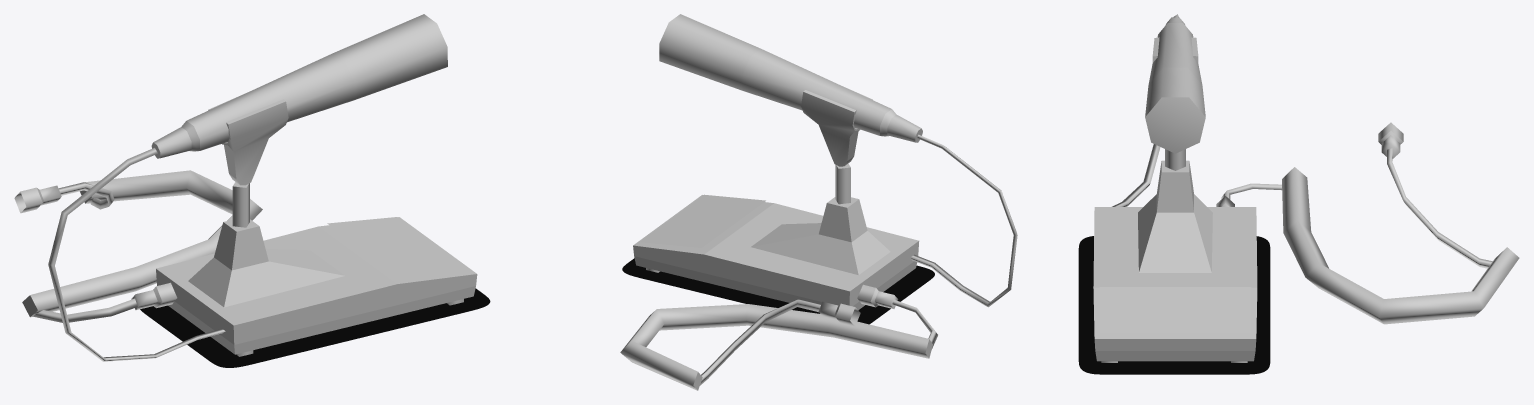
File: microphone_LOD.fbx
The picture shows the model from 3 angles, left to right: view 1: azimuth 30°, elevation 25°; view 2: azimuth 150°, elevation 25°; view 3: azimuth 270°, elevation 25°; orthographic projection. The views are drawn at different scales.
Parts seen in each view (by area): view 1: microphone_LOD, microphone_shadow; view 2: microphone_LOD, microphone_shadow; view 3: microphone_LOD, microphone_shadow.
Part boxes in pixels (<box>): microphone_LOD: <box>14,14,477,361</box>; microphone_shadow: <box>140,288,490,367</box>; microphone_LOD: <box>620,14,1017,390</box>; microphone_shadow: <box>622,258,934,324</box>; microphone_LOD: <box>1093,14,1519,362</box>; microphone_shadow: <box>1078,236,1270,374</box>.
Bounding box in the file's own units: 35.97 × 20.29 × 32.46.
